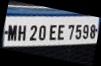character: (7, 24, 17, 41), (17, 24, 26, 41), (37, 24, 46, 41), (48, 24, 57, 41), (29, 24, 37, 41), (74, 23, 82, 40), (57, 24, 64, 41), (67, 23, 74, 40), (82, 24, 89, 40), (89, 24, 96, 39)
